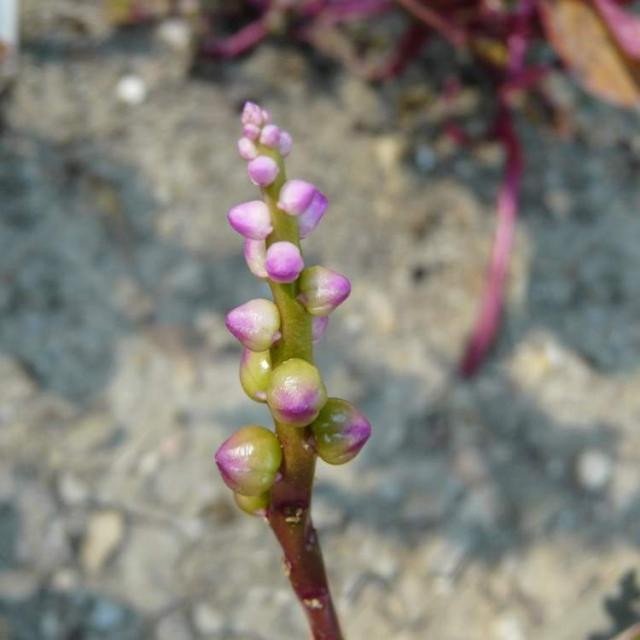Medicinal-Basale: (186, 90, 384, 612)
